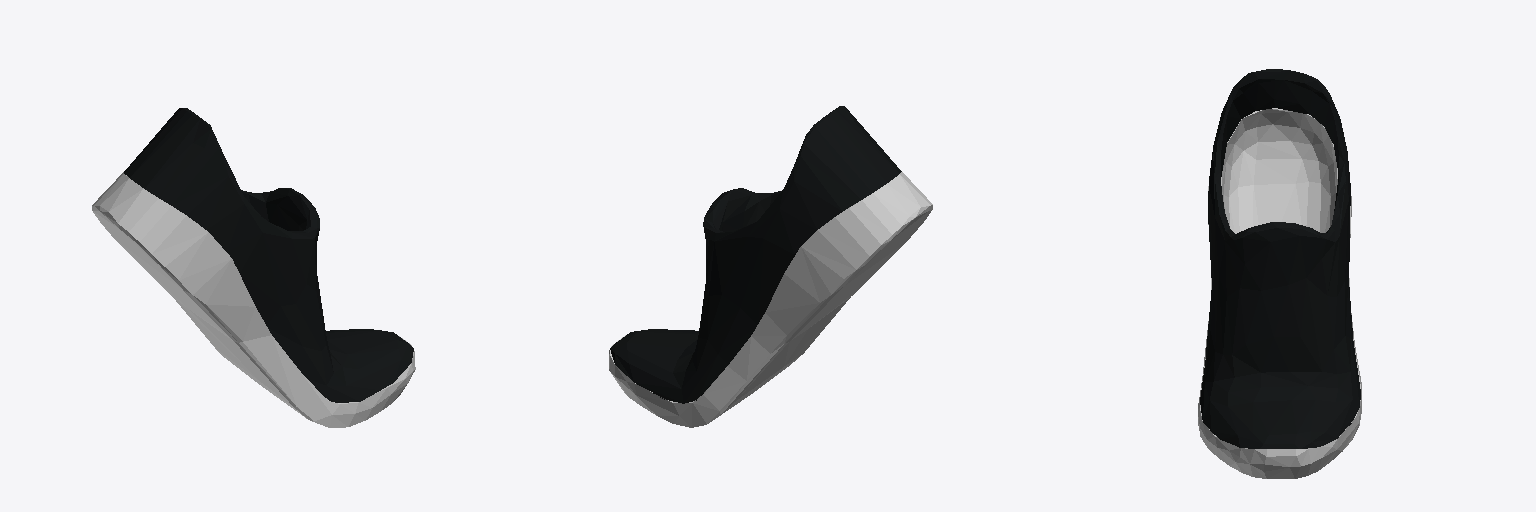
File: main-shoes-black.obj
3 renders of one model, left to right at view 1: azimuth 30°, elevation 25°; view 2: azimuth 150°, elevation 25°; view 3: azimuth 270°, elevation 25°, orthographic.
Parts seen in each view (by area): view 1: SHOES2_Cube.002, SHOES_Cube; view 2: SHOES2_Cube.002, SHOES_Cube; view 3: SHOES2_Cube.002, SHOES_Cube.
Boxes of the visible parts, <box> form: SHOES2_Cube.002: <box>124,108,413,402</box>; SHOES_Cube: <box>92,172,415,427</box>; SHOES2_Cube.002: <box>610,106,901,403</box>; SHOES_Cube: <box>609,172,932,427</box>; SHOES2_Cube.002: <box>1200,69,1360,448</box>; SHOES_Cube: <box>1198,108,1361,478</box>.
Bounding box in the file's own units: 10.32 × 10.22 × 4.86.